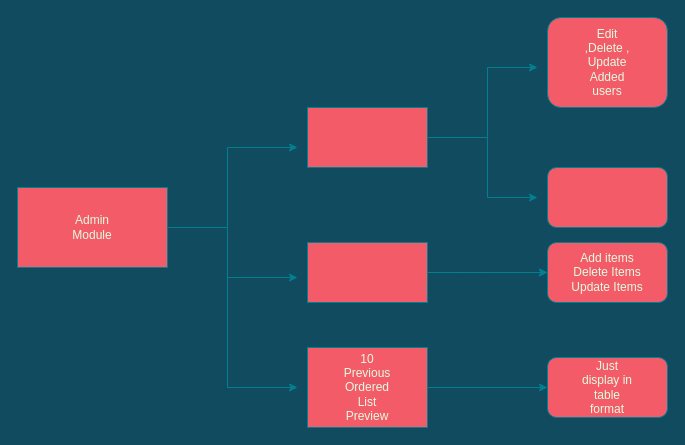
Image size: 685x445. Some labels were removed from this diagram. The shapes that lost their labels are listed below. From the top down, each one's box as (x1, y1, x2, y2) in pixels, then its label:
(306, 106, 428, 168): Users Creation
(546, 166, 668, 228): Create new permission denied users
(306, 242, 428, 302): Items Creation
